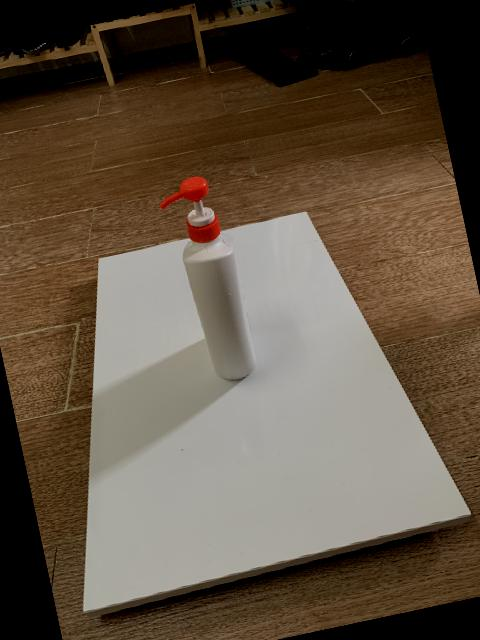life-buoy: (159, 176, 257, 381)
